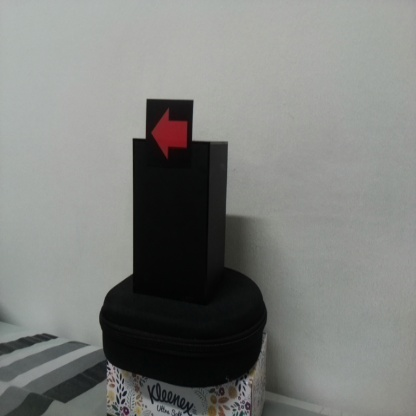id_4: (147, 100, 193, 167)
